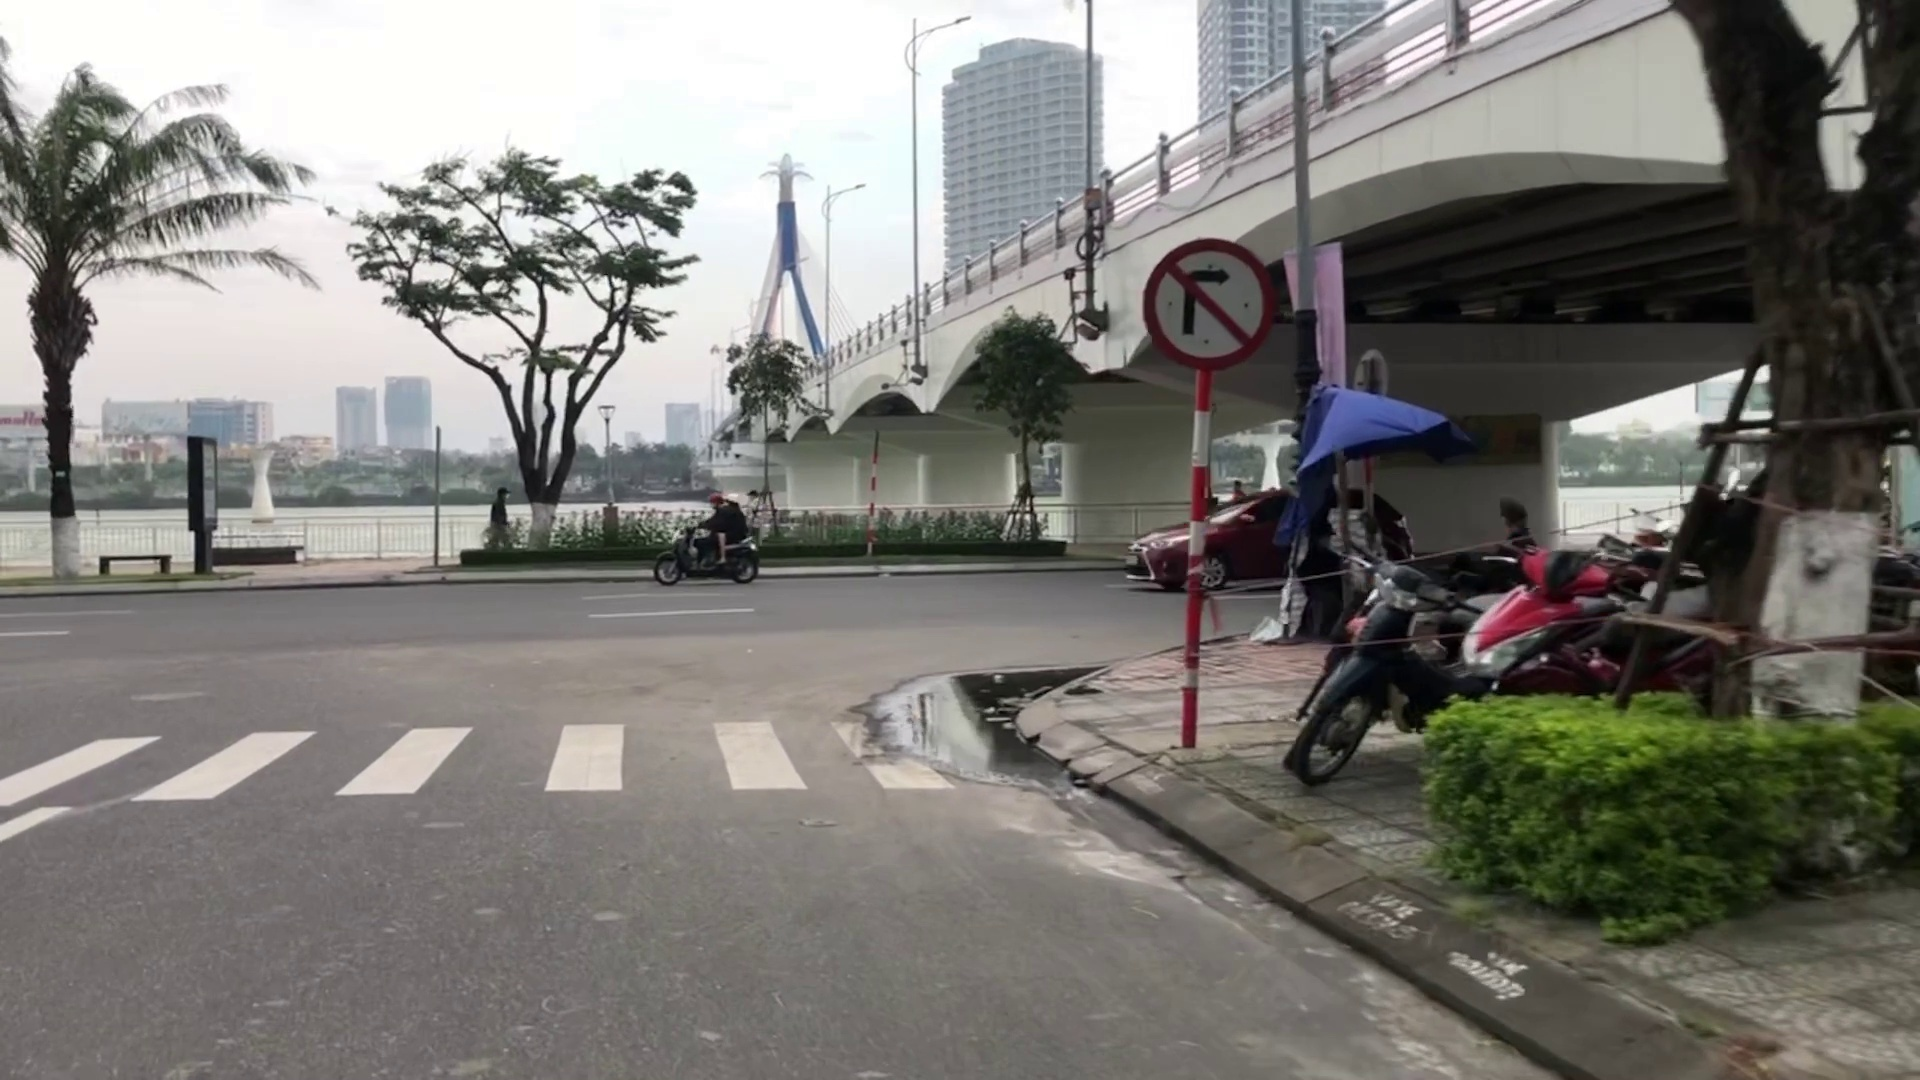Bien khac: (1139, 237, 1274, 367)
